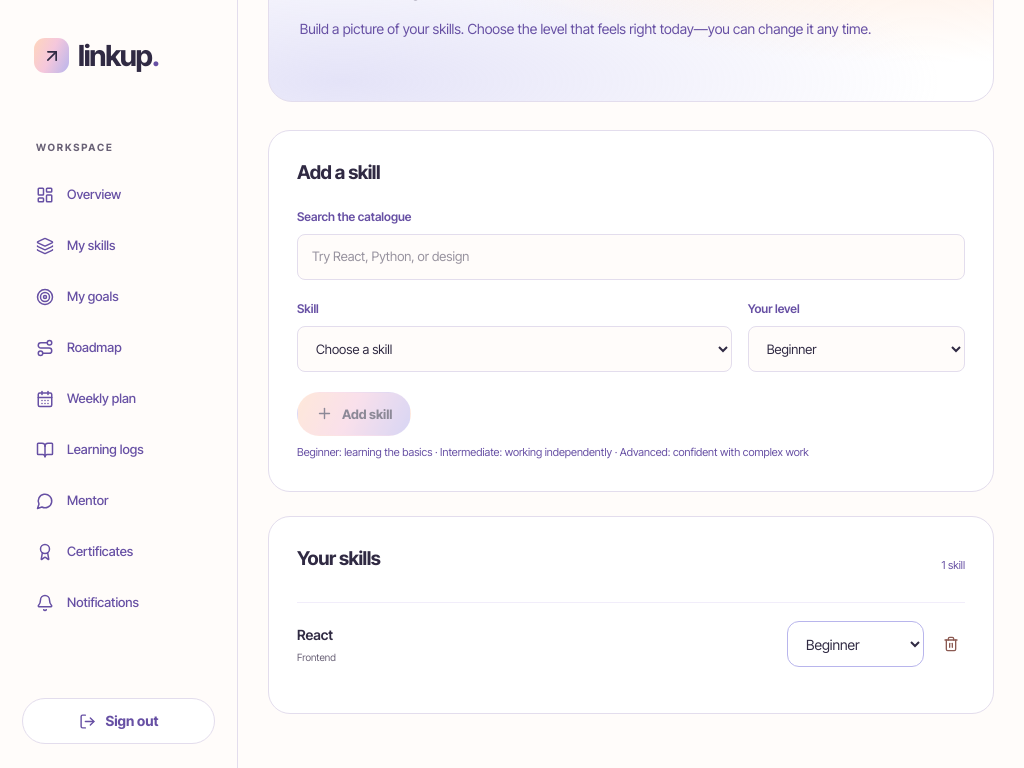
Scenario: skill profile screen › asks before removal, supports cancel, and restores the skill to the catalogue
(page scrolled)
What coordinates should you click on to do the following:
click the button named "Remove React"
I would click on:
 (951, 644)
Its box is x1=936 y1=624 x2=965 y2=664.
(page scrolled)
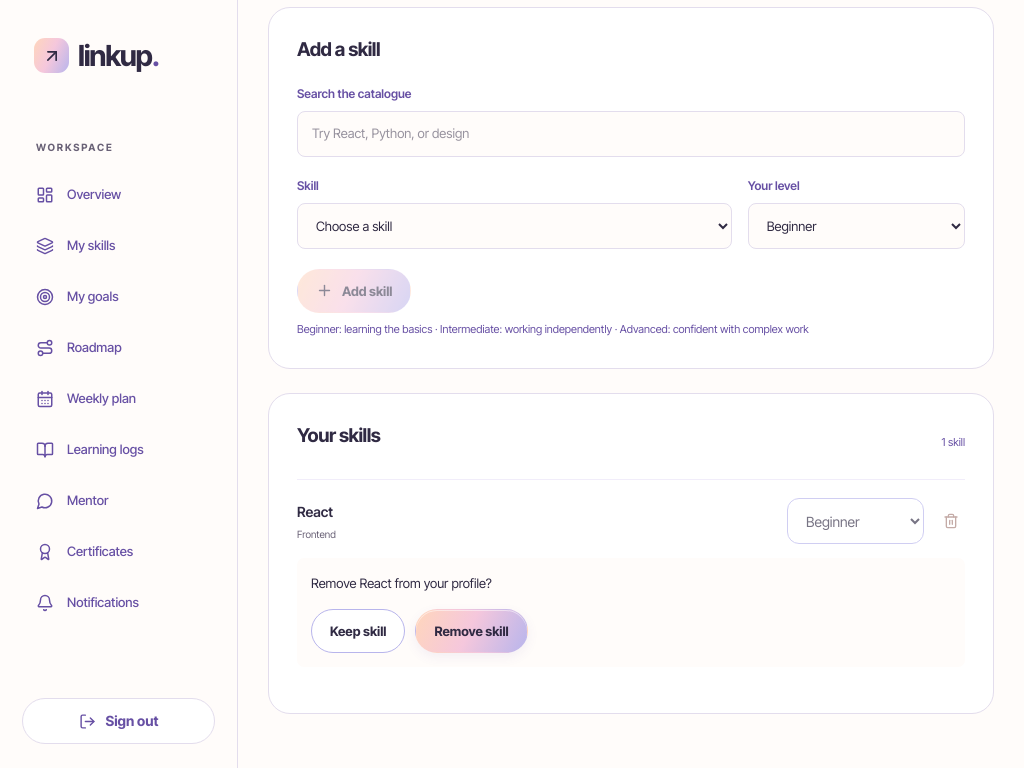
What coordinates should you click on to do the following:
click the button "Keep skill"
I would click on:
 (358, 631)
Its box is x1=311 y1=609 x2=405 y2=653.
(page scrolled)
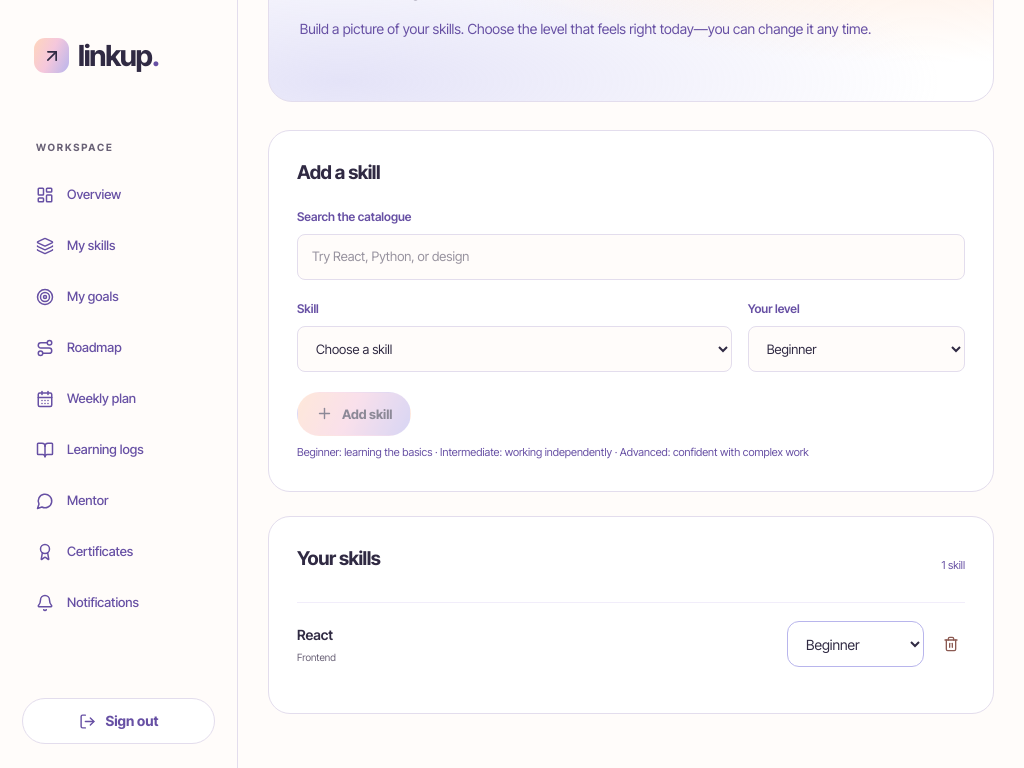
What coordinates should you click on to do the following:
click the button named "Remove React"
I would click on:
 (951, 644)
Its box is x1=936 y1=624 x2=965 y2=664.
(page scrolled)
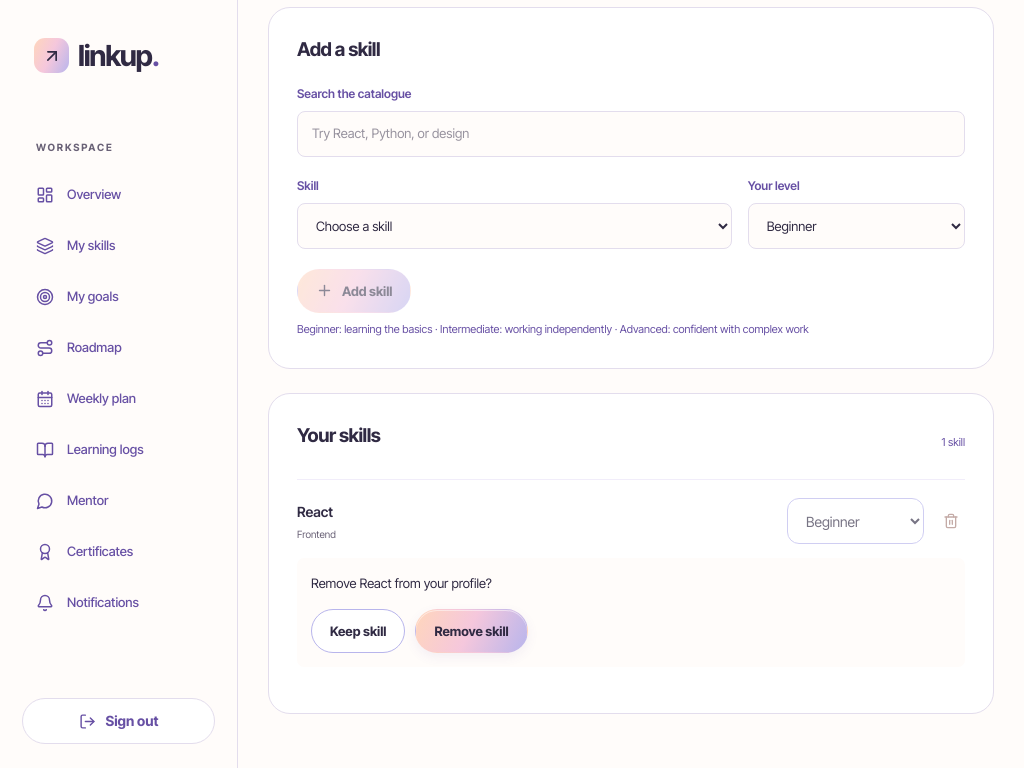
What coordinates should you click on to do the following:
click the button "Remove skill"
I would click on:
 (472, 631)
Its box is x1=415 y1=609 x2=528 y2=653.
(page scrolled)
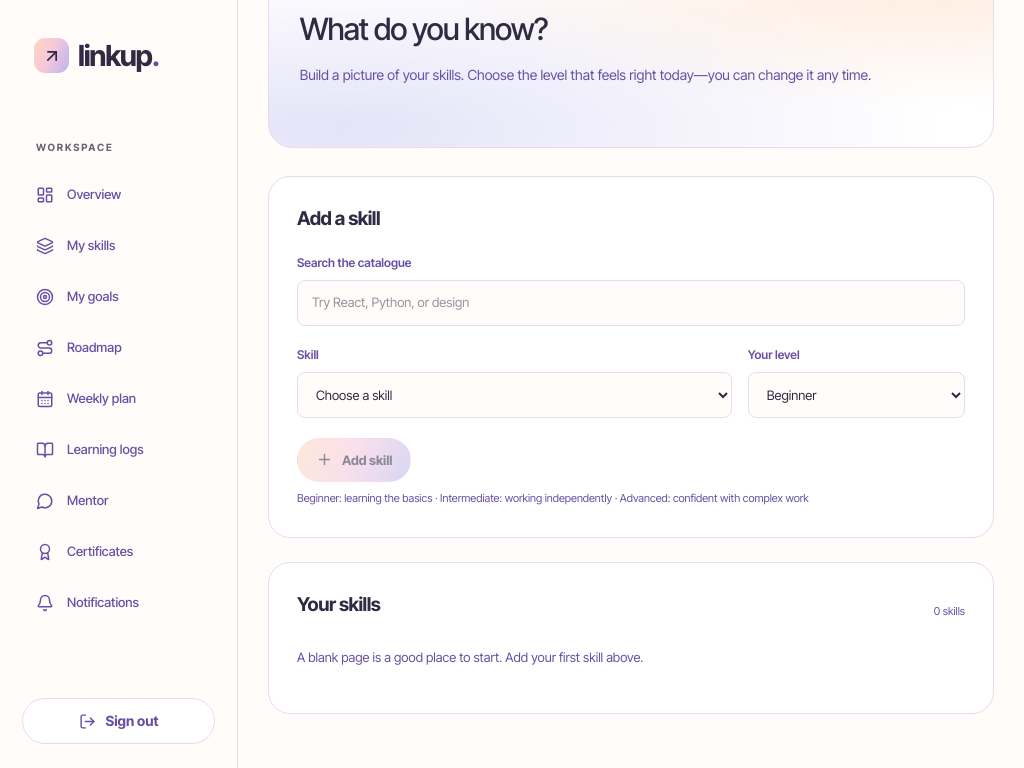
Result: the text "Add your first skill above" is shown at x1=297 y1=649 x2=644 y2=665
